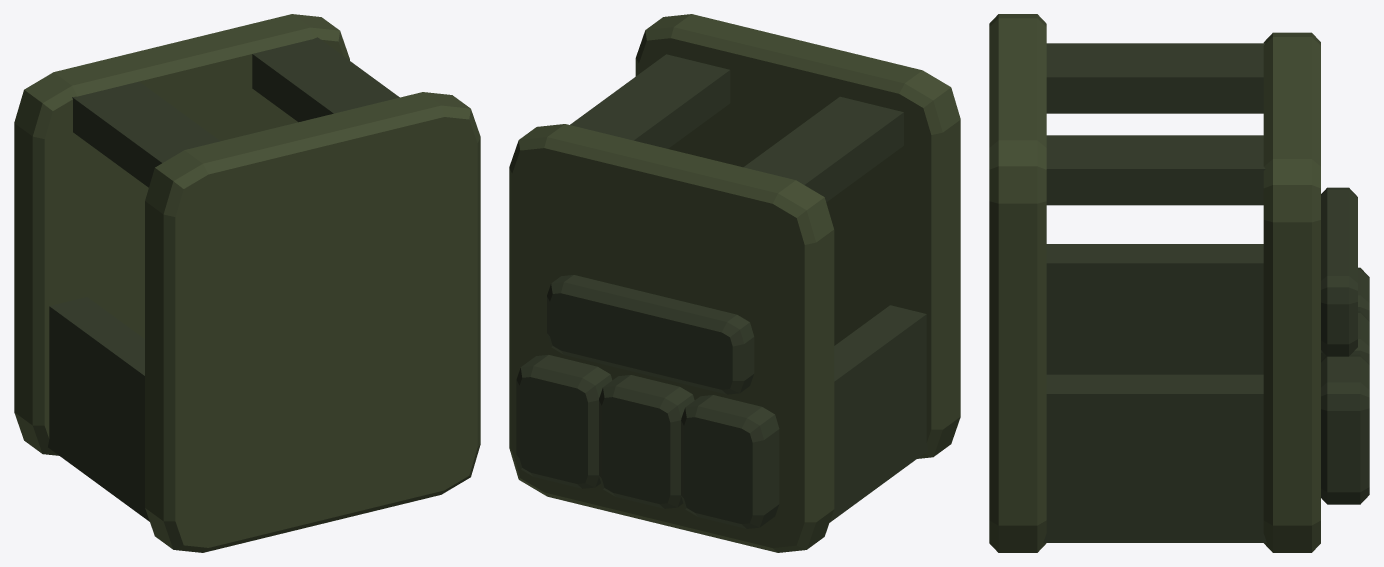
File: vest2.glb
3 views of the same model, side by side, from view 1: azimuth 30°, elevation 25°; view 2: azimuth 150°, elevation 25°; view 3: azimuth 270°, elevation 25° (orthographic). The views are drawn at different scales.
Parts seen in each view (by area): view 1: item_vest2; view 2: item_vest2; view 3: item_vest2.
Part boxes in pixels (x1,y1,x2,y2): item_vest2: [14, 14, 480, 552]; item_vest2: [509, 14, 960, 552]; item_vest2: [989, 14, 1369, 552].
Bounding box in the file's own units: 0.3752 × 0.44 × 0.3713.
